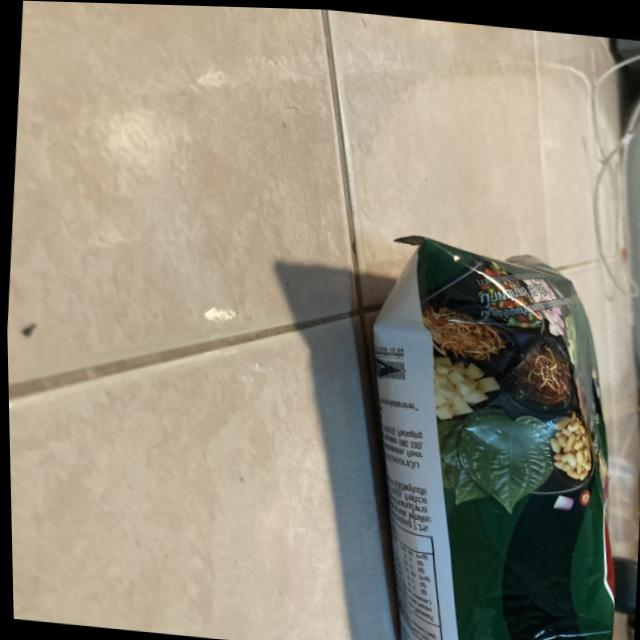Laygreen: (310, 198, 640, 640)
